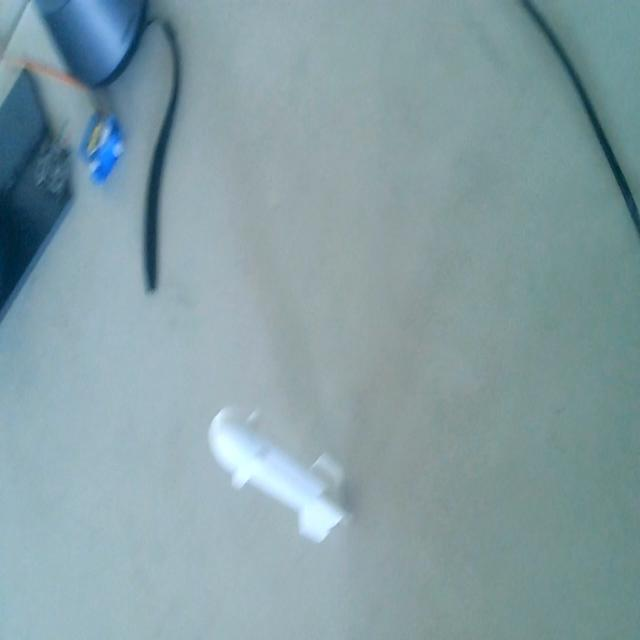Rocket: (205, 396, 348, 559)
